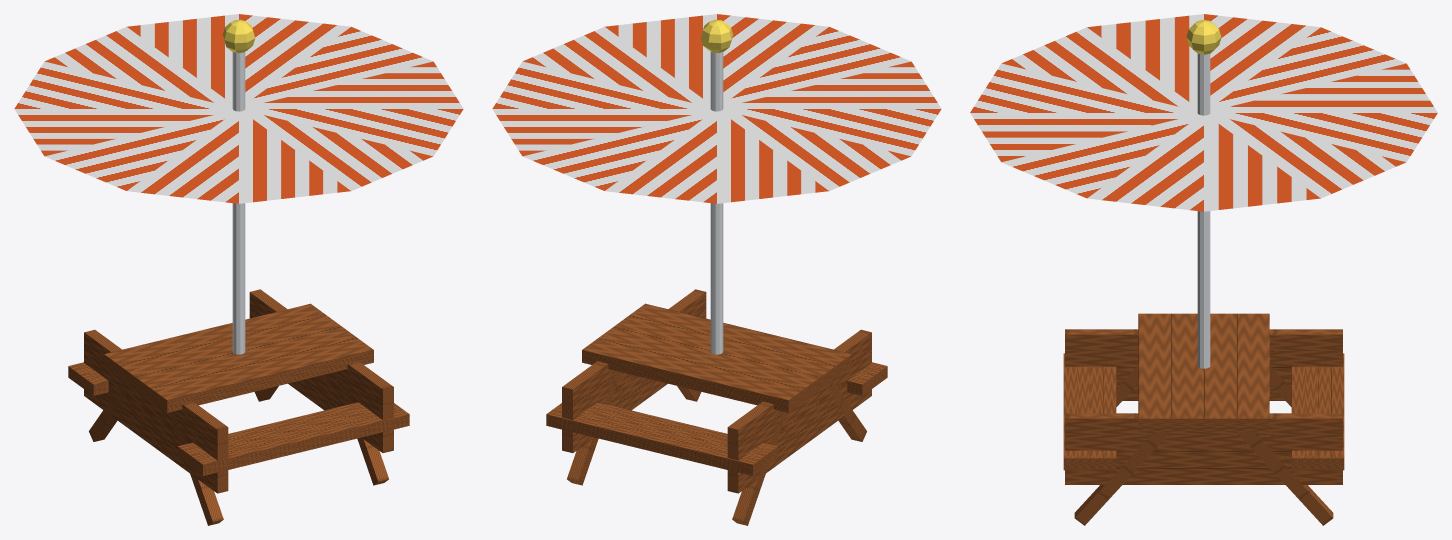
The model's file is theme-park-rides-and-coasters-theme-park-rides-and-coa-d2ebe079__28690.glb.
3 renders of one model, left to right at view 1: azimuth 30°, elevation 25°; view 2: azimuth 150°, elevation 25°; view 3: azimuth 270°, elevation 25°, orthographic. The views are drawn at different scales.
Parts seen in each view (by area): view 1: theme-park-rides-and-coasters-picnic-table-umbrella; view 2: theme-park-rides-and-coasters-picnic-table-umbrella; view 3: theme-park-rides-and-coasters-picnic-table-umbrella.
Boxes of the visible parts, left/top/right/bottom form: theme-park-rides-and-coasters-picnic-table-umbrella: left=14, top=14, right=463, bottom=525; theme-park-rides-and-coasters-picnic-table-umbrella: left=492, top=14, right=941, bottom=525; theme-park-rides-and-coasters-picnic-table-umbrella: left=970, top=14, right=1437, bottom=525.
Bounding box in the file's own units: 3.2 × 3.47 × 3.2.
Materials: 4 (2 with a texture image).
